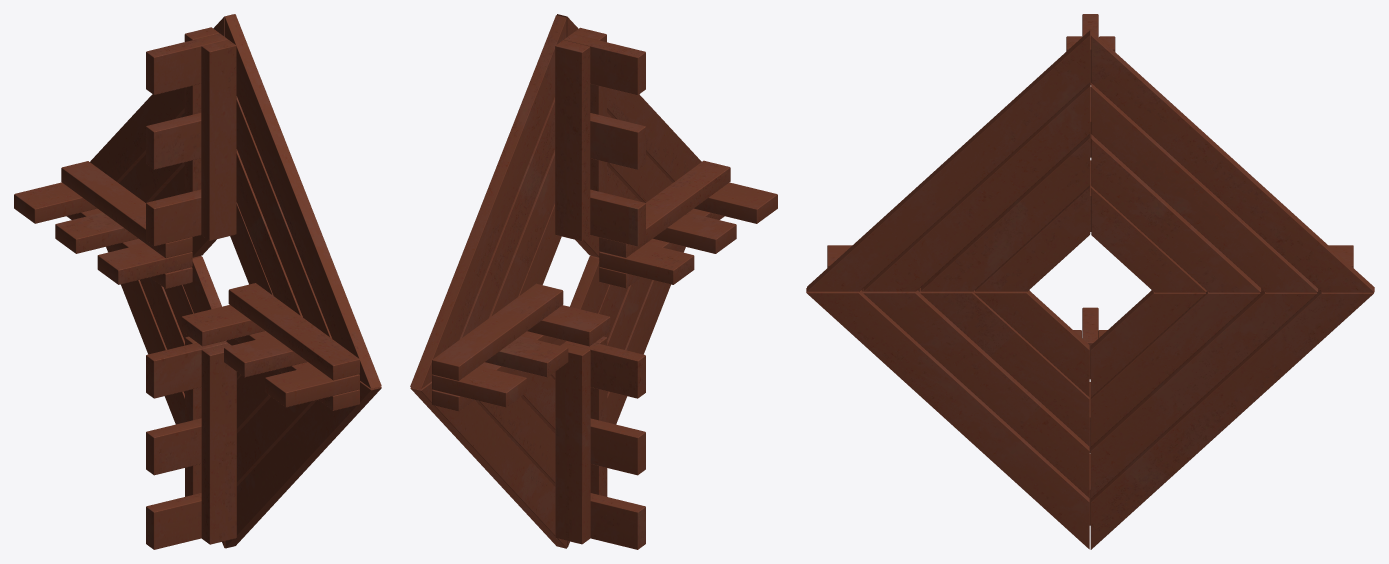
Rendered from cP_Bench19.dae.
3 views of the same model, side by side, from view 1: azimuth 30°, elevation 25°; view 2: azimuth 150°, elevation 25°; view 3: azimuth 270°, elevation 25° (orthographic). The views are drawn at different scales.
Parts seen in each view (by area): view 1: cP_Bench19.001; view 2: cP_Bench19.001; view 3: cP_Bench19.001.
Boxes of the visible parts, x1,y1,x2,y2 form: cP_Bench19.001: (14, 14, 381, 549); cP_Bench19.001: (410, 14, 777, 549); cP_Bench19.001: (806, 14, 1374, 549).
Bounding box in the file's own units: 0.3877 × 2.3 × 2.3.
